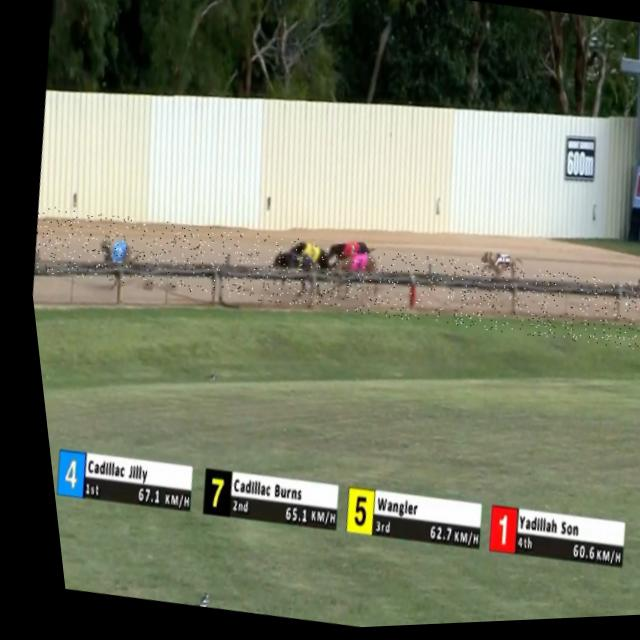dog_eight: (342, 257, 360, 280)
dog_five: (296, 245, 315, 268)
dog_four: (104, 245, 123, 270)
dog_one: (336, 243, 355, 266)
dog_seven: (282, 256, 301, 279)
dog_two: (486, 254, 509, 282)
rail: (28, 261, 640, 303)
